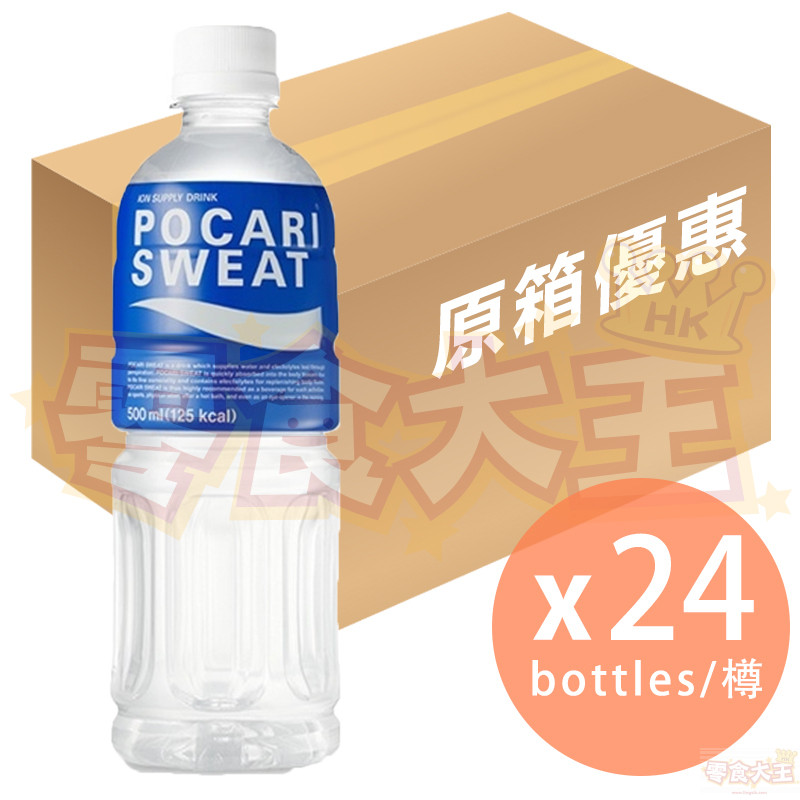POCARI SWEAT: (103, 23, 346, 774)
